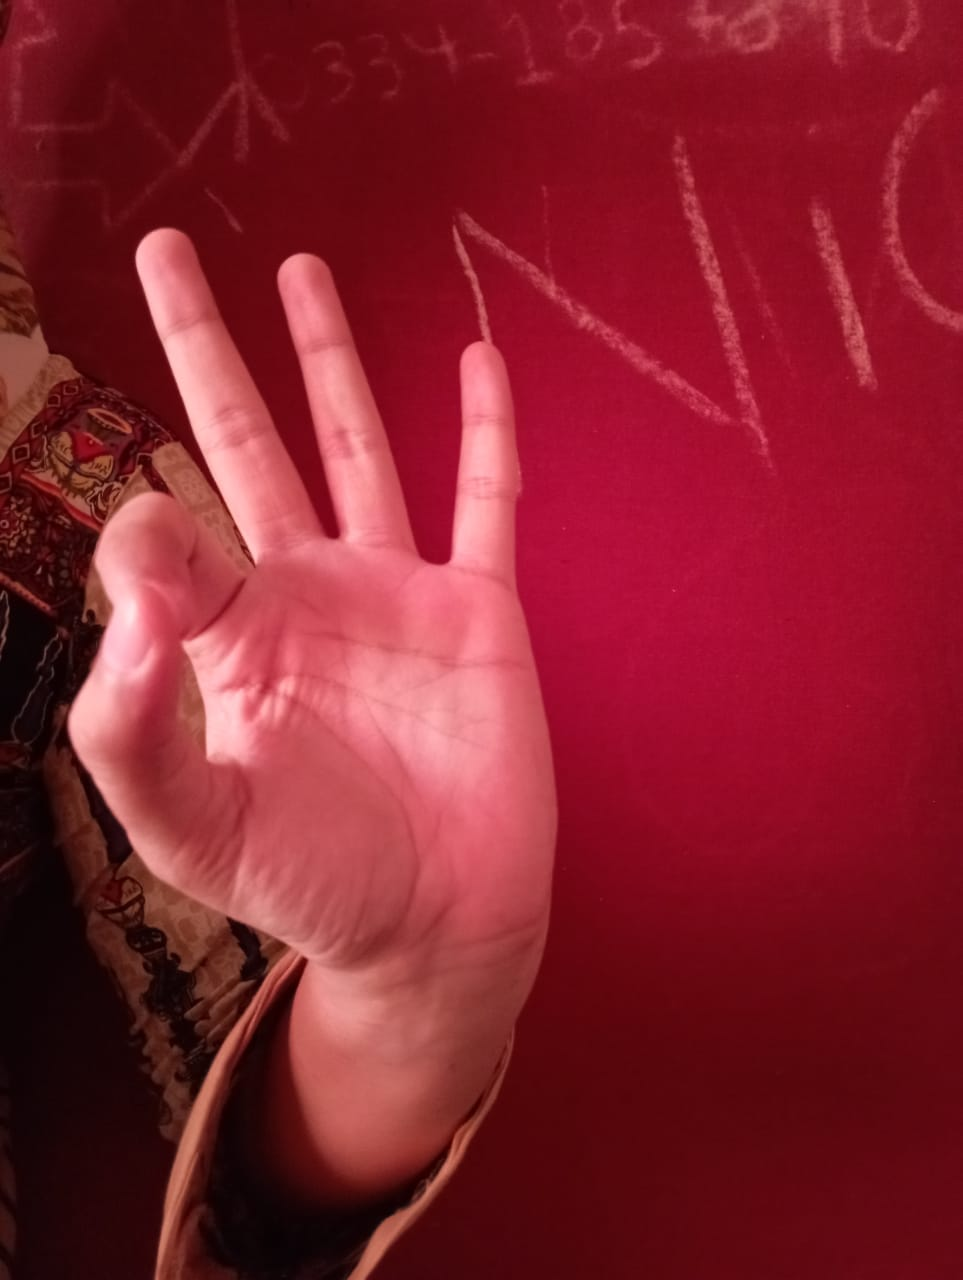Awesome: (72, 215, 572, 961)
